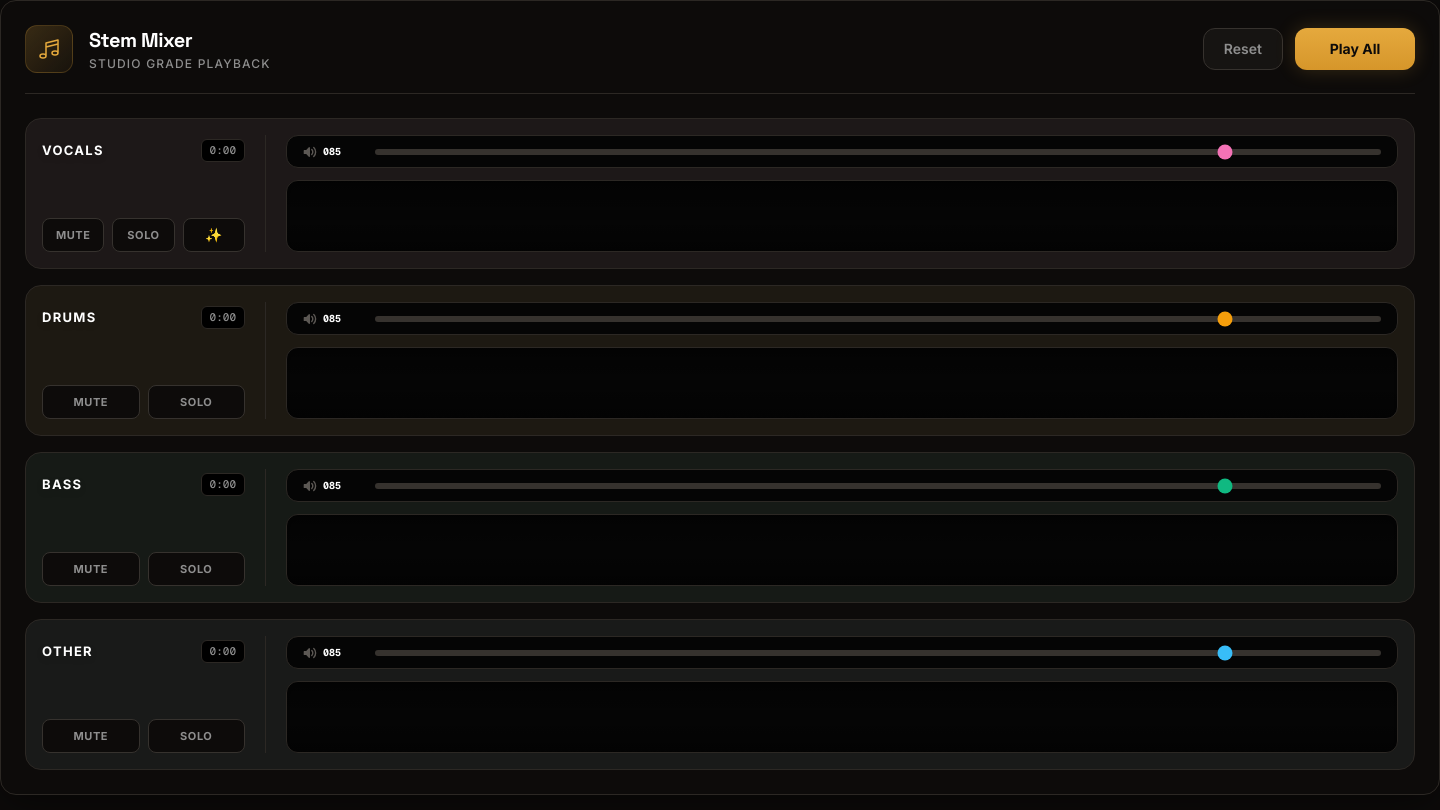
Test: AdvancedMultiTrackPlayer (TU-6) › shows backend error message when polish API fails (M6)
Click the button with test id "polish-toggle".
click(214, 235)  # box [183,218,245,252]
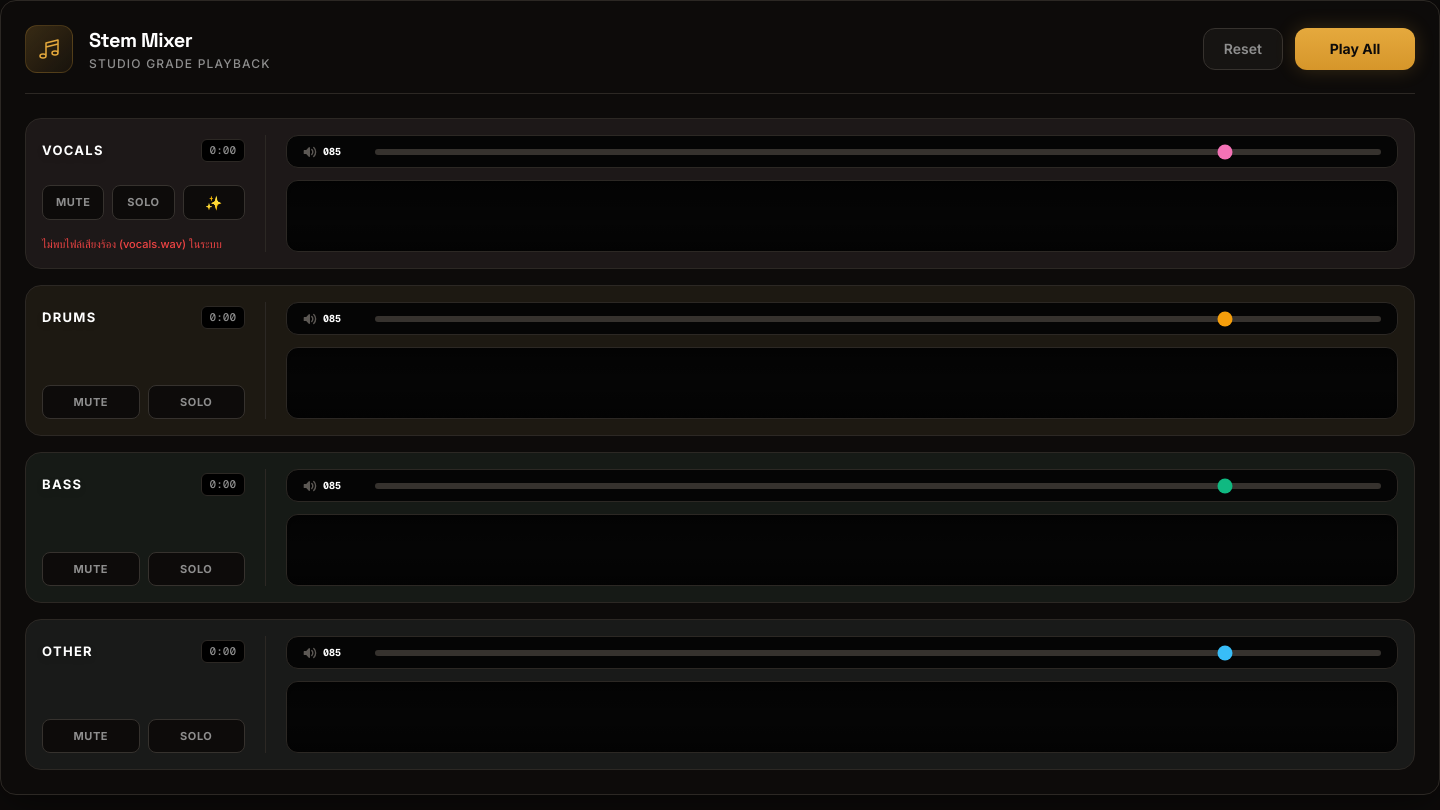
expect the button with test id "polish-toggle" is enabled: met, box [183,185,245,220]
expect the text "ไม่พบไฟล์เสียงร้อง (vocals.wav) ในระบบ" is shown: met, box [42,236,245,252]
expect the text with test id "polish-error" shows "vocals.wav": met, box [42,236,222,250]
